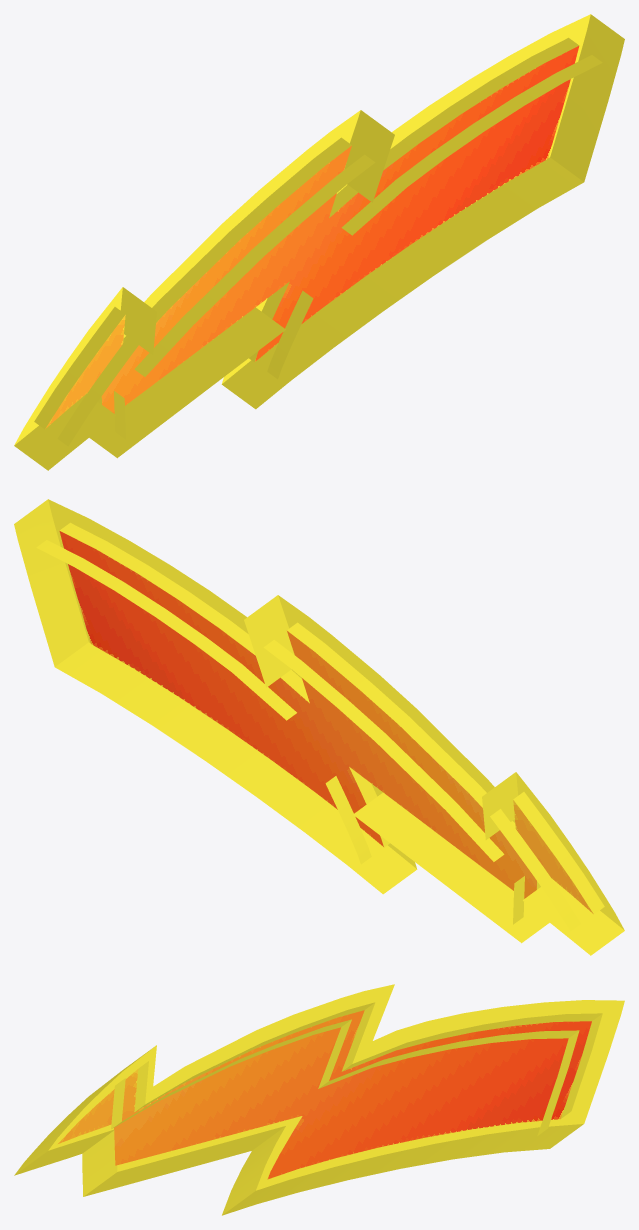
Rendered from ps2_save-icons_carsraceorama.glb.
The picture shows the model from 3 angles, top to bottom: view 1: azimuth 30°, elevation 25°; view 2: azimuth 150°, elevation 25°; view 3: azimuth 330°, elevation 25°; orthographic projection.
Parts seen in each view (by area): view 1: iconnorm.ico; view 2: iconnorm.ico; view 3: iconnorm.ico.
Part boxes in pixels (x1,y1,x2,y2): iconnorm.ico: (14, 14, 624, 470); iconnorm.ico: (14, 499, 624, 955); iconnorm.ico: (14, 984, 624, 1215).
Bounding box in the file's own units: 4.77 × 2.33 × 0.4888.
1 material, 1 textured.
